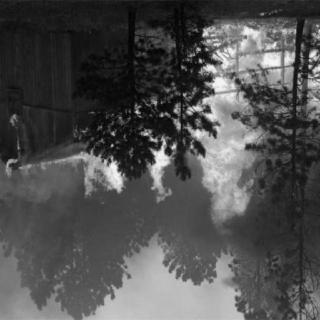Fire: (181, 18, 318, 236), (13, 77, 189, 212)
